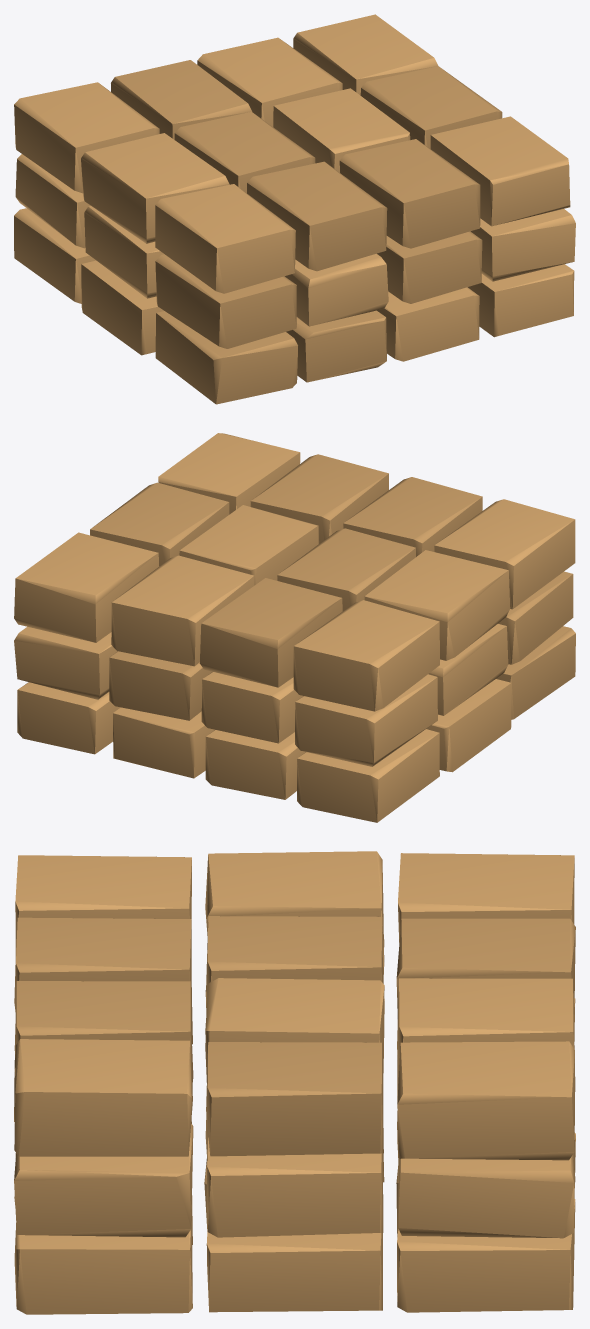
Rendered from NJD-07-LOD1.glb.
3 renders of one model, top to bottom at view 1: azimuth 30°, elevation 25°; view 2: azimuth 150°, elevation 25°; view 3: azimuth 270°, elevation 25°, orthographic. The views are drawn at different scales.
Parts seen in each view (by area): view 1: handmade block.024, handmade block.030, handmade block.033, handmade block.027, handmade block.025, handmade block.026, handmade block, handmade block.012, handmade block.031, handmade block.032, handmade block.035, handmade block.034 (+12 smaller); view 2: handmade block.026, handmade block.035, handmade block.029, handmade block.032, handmade block.025, handmade block.024, handmade block.002, handmade block.014, handmade block.030, handmade block.031, handmade block.033, handmade block.034 (+12 smaller); view 3: handmade block.035, handmade block.033, handmade block.034, handmade block.021, handmade block.022, handmade block.009, handmade block.023, handmade block.010, handmade block.011, handmade block.025, handmade block.026, handmade block.032 (+6 smaller).
Boxes of the visible parts, bbox=[...] form: handmade block.024: bbox=[155, 184, 295, 293]; handmade block.030: bbox=[339, 139, 480, 248]; handmade block.033: bbox=[430, 116, 570, 226]; handmade block.027: bbox=[247, 161, 387, 271]; handmade block.025: bbox=[81, 133, 229, 243]; handmade block.026: bbox=[14, 82, 159, 193]; handmade block: bbox=[155, 311, 297, 404]; handmade block.012: bbox=[155, 254, 296, 348]; handmade block.031: bbox=[273, 88, 410, 172]; handmade block.032: bbox=[197, 37, 342, 126]; handmade block.035: bbox=[293, 14, 438, 95]; handmade block.034: bbox=[360, 66, 502, 148]; handmade block.026: bbox=[293, 600, 439, 711]; handmade block.035: bbox=[14, 532, 159, 642]; handmade block.029: bbox=[199, 578, 342, 687]; handmade block.032: bbox=[111, 555, 254, 666]; handmade block.025: bbox=[364, 550, 510, 660]; handmade block.024: bbox=[434, 499, 575, 609]; handmade block.002: bbox=[297, 729, 439, 822]; handmade block.014: bbox=[295, 674, 437, 766]; handmade block.030: bbox=[250, 454, 388, 543]; handmade block.031: bbox=[179, 505, 319, 585]; handmade block.033: bbox=[158, 433, 300, 514]; handmade block.034: bbox=[90, 482, 229, 565]; handmade block.035: bbox=[397, 1041, 574, 1160]; handmade block.033: bbox=[14, 1039, 192, 1156]; handmade block.034: bbox=[206, 1042, 383, 1156]; handmade block.021: bbox=[14, 1124, 193, 1237]; handmade block.022: bbox=[206, 1137, 383, 1237]; handmade block.009: bbox=[14, 1209, 192, 1314]; handmade block.023: bbox=[398, 1131, 574, 1238]; handmade block.010: bbox=[206, 1230, 382, 1312]; handmade block.011: bbox=[397, 1199, 575, 1312]; handmade block.025: bbox=[205, 851, 384, 967]; handmade block.026: bbox=[398, 853, 574, 942]; handmade block.032: bbox=[397, 978, 575, 1091].
Size of the model in its own units: 1.9 by 0.7941 by 1.82.
